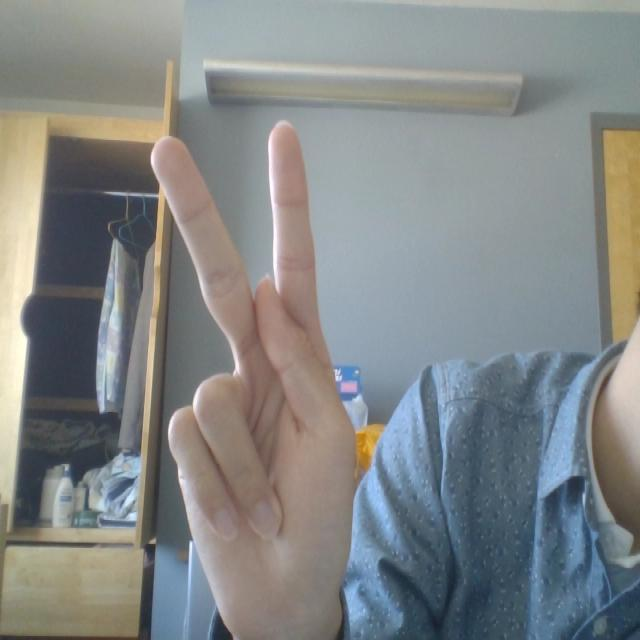K: (122, 47, 413, 640)
